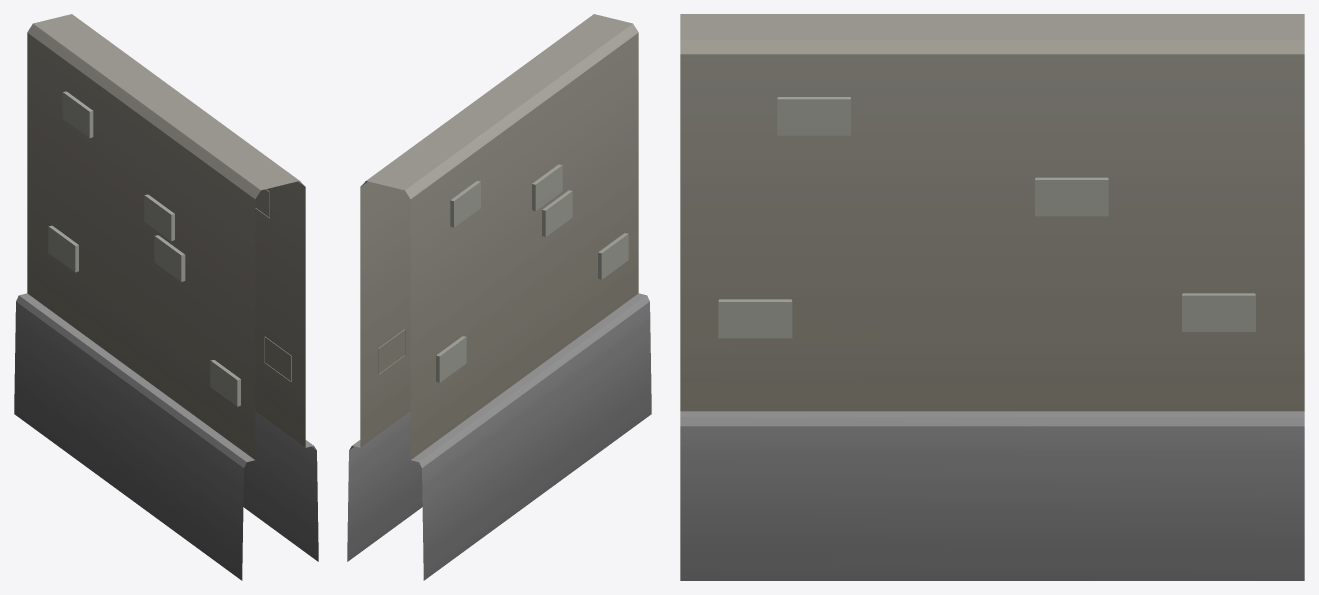
The model's file is WallFence_3_1_B.fbx.
3 views of the same model, side by side, from view 1: azimuth 30°, elevation 25°; view 2: azimuth 150°, elevation 25°; view 3: azimuth 270°, elevation 25° (orthographic). The views are drawn at different scales.
Parts seen in each view (by area): view 1: WallFence_3_1_B; view 2: WallFence_3_1_B; view 3: WallFence_3_1_B.
Part boxes in pixels (box(x1,y1,x2,y2)): WallFence_3_1_B: box(14, 14, 318, 580); WallFence_3_1_B: box(347, 14, 651, 580); WallFence_3_1_B: box(680, 14, 1304, 580).
Size of the model in its own units: 38.8 by 187 by 200.
